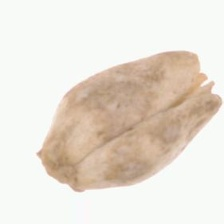L1: (187, 51, 221, 103), (34, 151, 78, 189)
L2: (38, 50, 221, 192)
